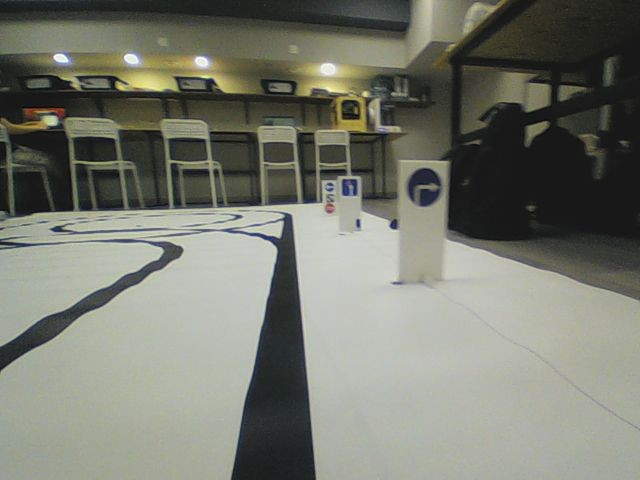Right: (406, 167, 442, 208)
priority_movement: (341, 178, 358, 197)
